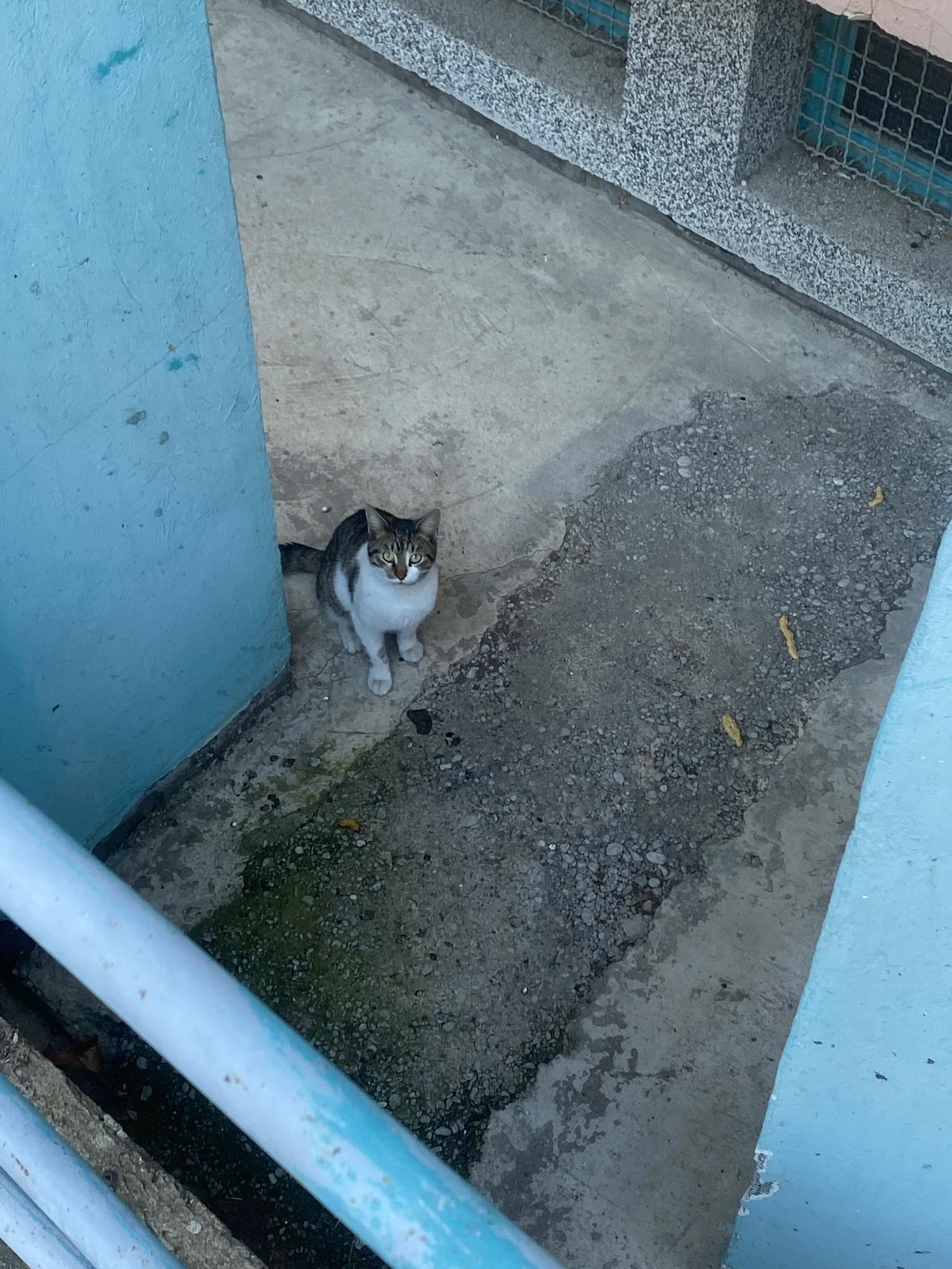macka: (277, 504, 441, 695)
